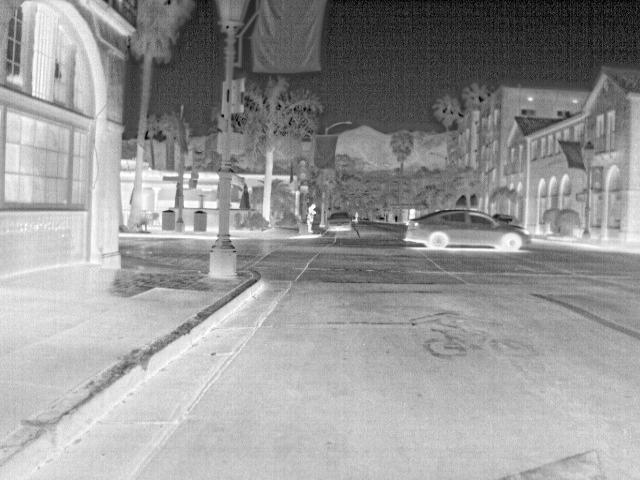car: (402, 210, 531, 252), (326, 209, 356, 235), (491, 213, 522, 229)
person: (304, 202, 323, 234)
